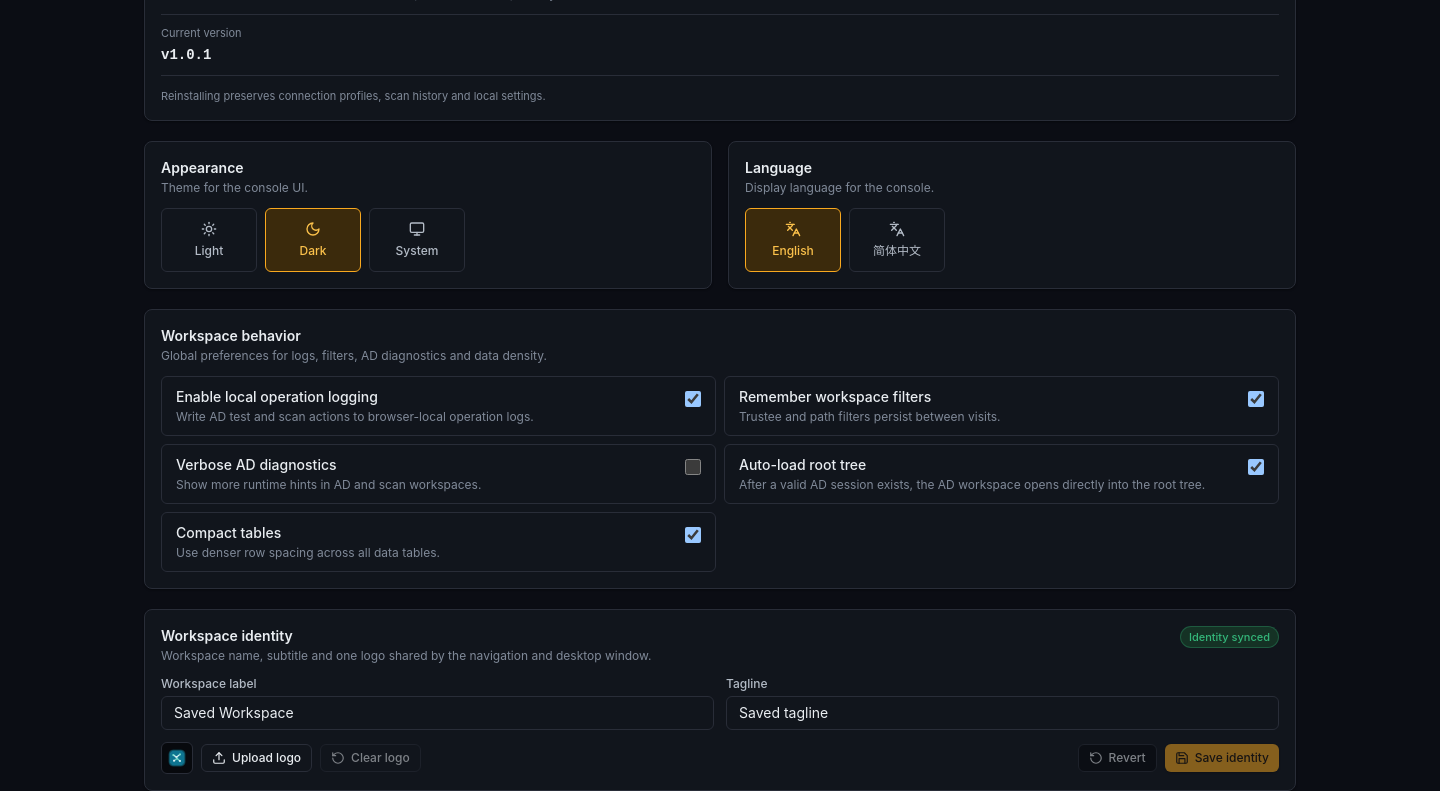
Test case: SettingsPage › keeps workspace identity edits in draft state until save
The width and height of the screenshot is (1440, 791).
(page scrolled)
Expected: the button "Save identity" is disabled, [1165,744,1279,772]
Step 1. Replace the text in the field showing "Saved Workspace" with "Draft Workspace" → point(438, 712), box [161,696,714,730]
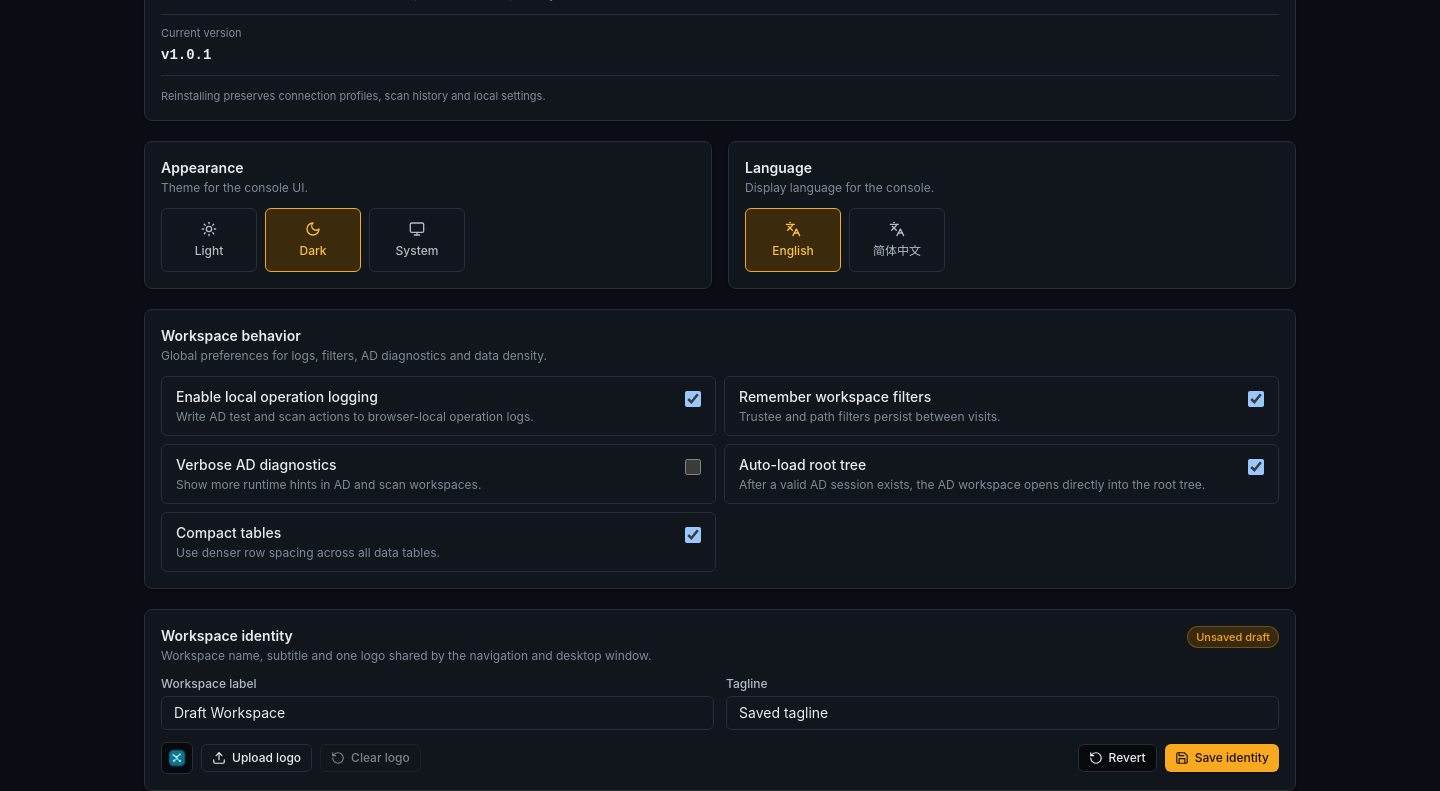
Expected: the text "Unsaved draft" is shown, [1187,626,1279,648]
Expected: the button "Save identity" is enabled
Step 2. Click the button "Save identity" → point(1222, 758), box [1165,744,1279,772]
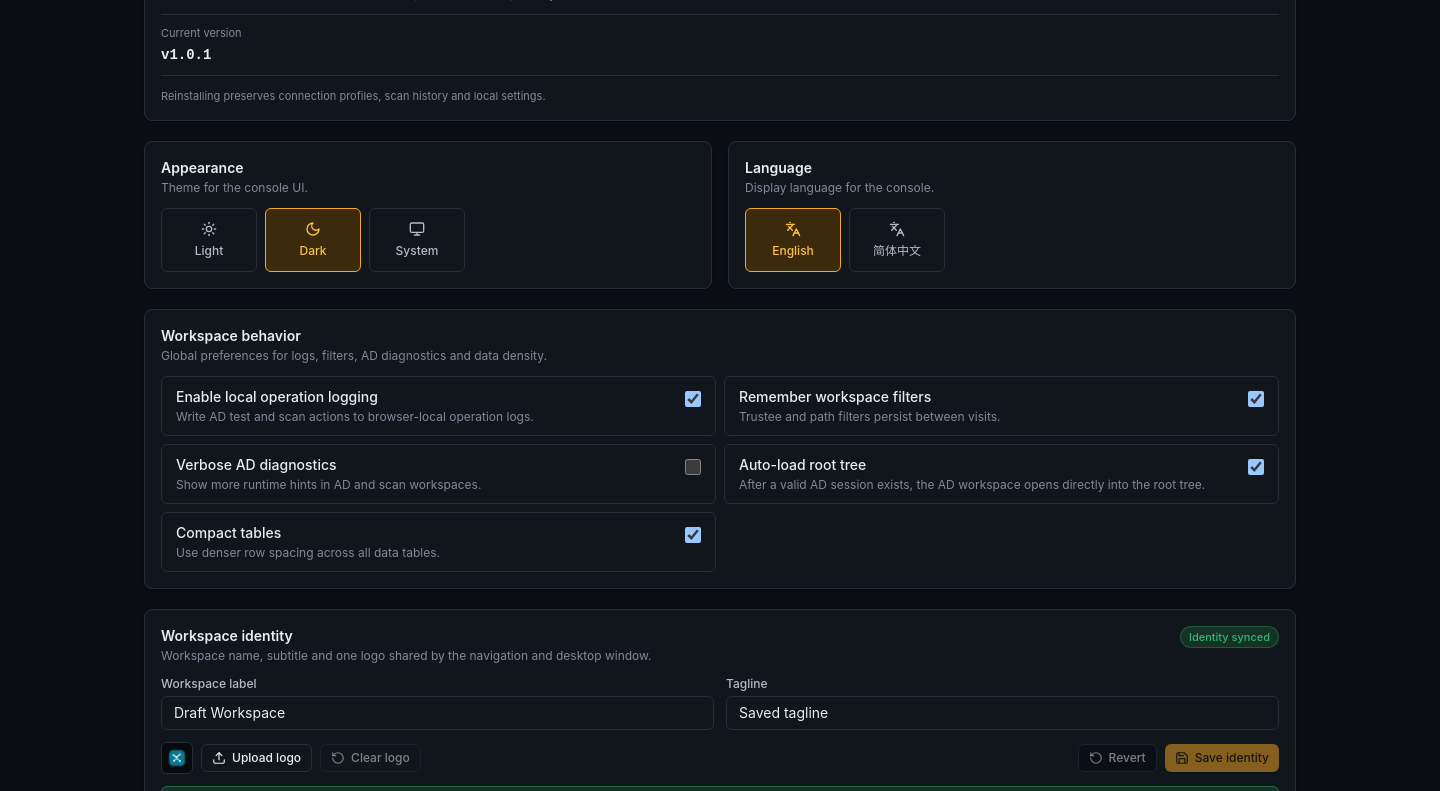
Expected: the text "Identity synced" is shown, [1180,626,1279,648]
